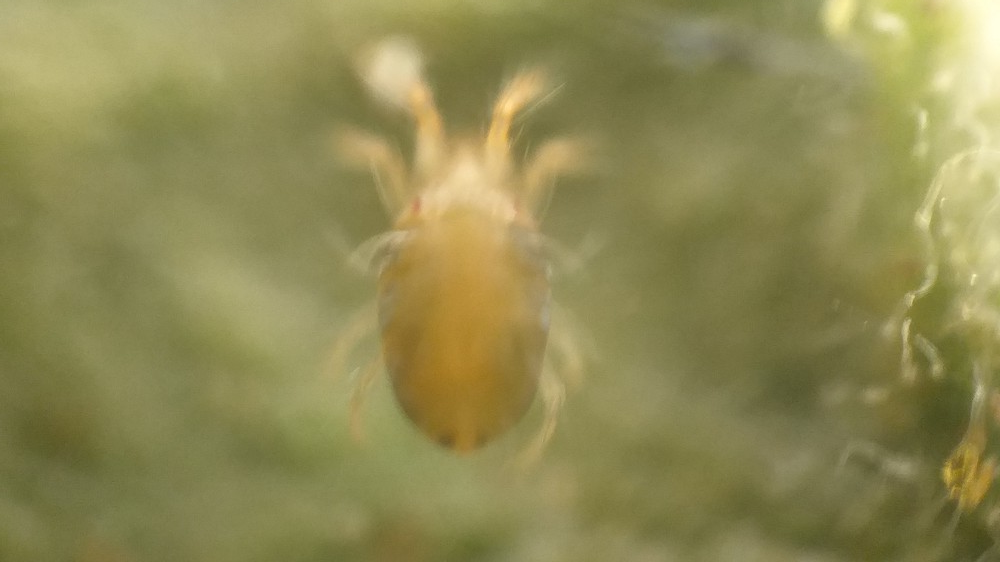Aracnido Rojo: (359, 78, 688, 521)
